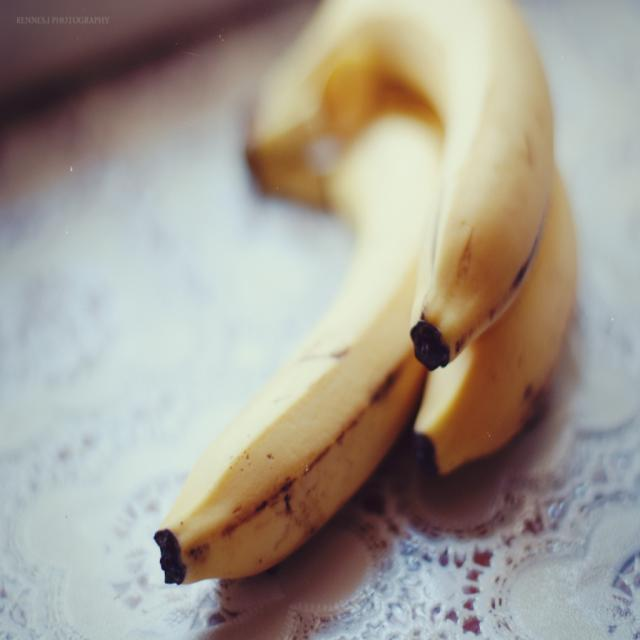Banana: (162, 0, 582, 600)
